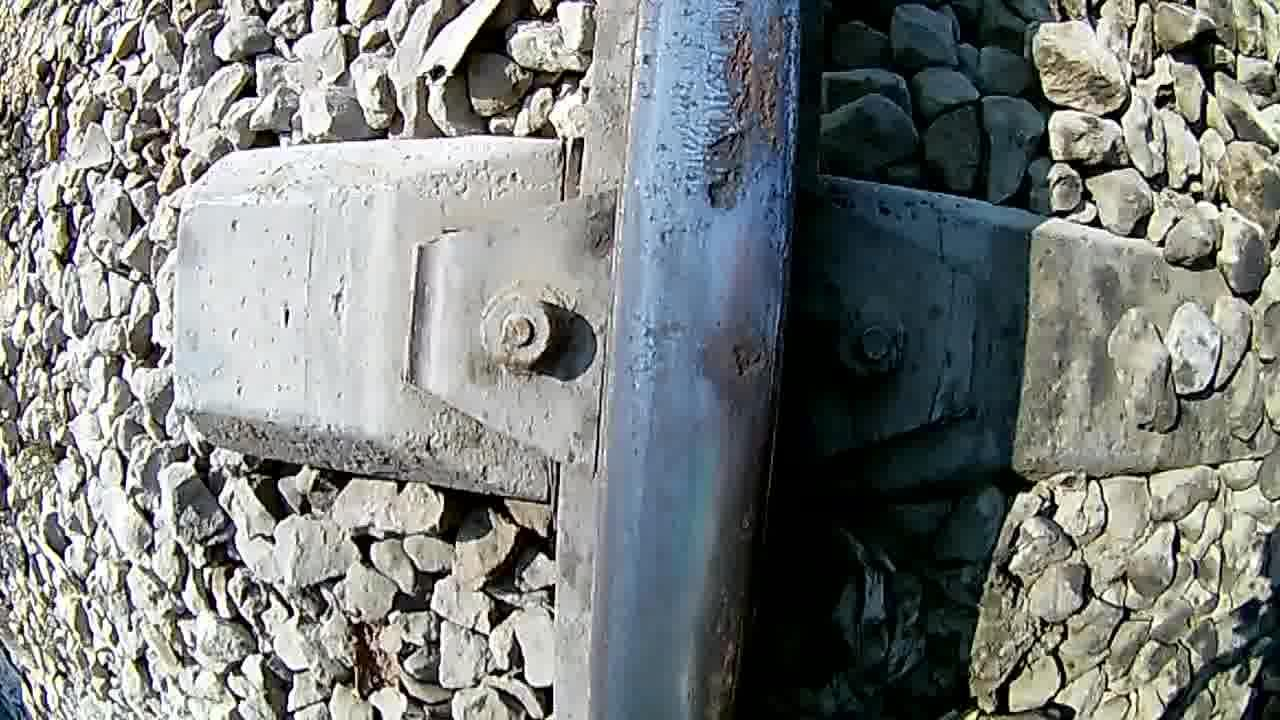crack: (622, 0, 804, 720)
